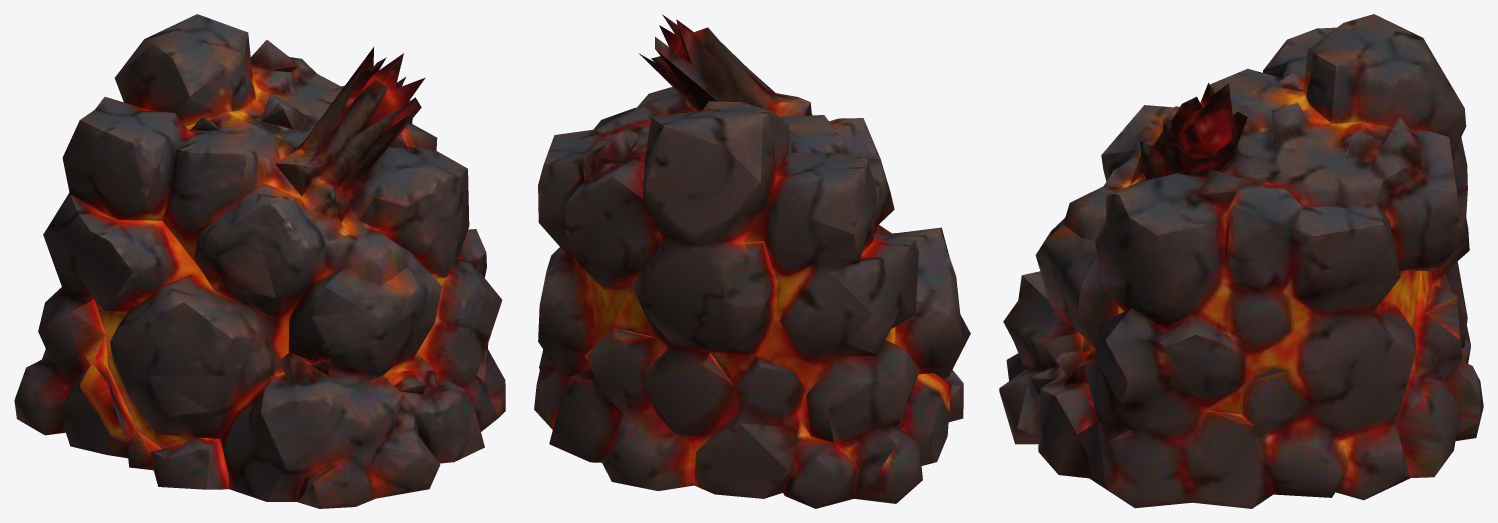
File: d_braises_massif.glb
3 views of the same model, side by side, from view 1: azimuth 30°, elevation 25°; view 2: azimuth 150°, elevation 25°; view 3: azimuth 270°, elevation 25° (orthographic). The views are drawn at different scales.
Parts seen in each view (by area): view 1: geometry_0; view 2: geometry_0; view 3: geometry_0.
Part boxes in pixels (x1,y1,x2,y2): geometry_0: (14,14,505,508); geometry_0: (534,14,970,508); geometry_0: (999,14,1483,508).
Size of the model in its own units: 0.9942 by 0.866 by 0.9898.
1 material, 1 textured.
